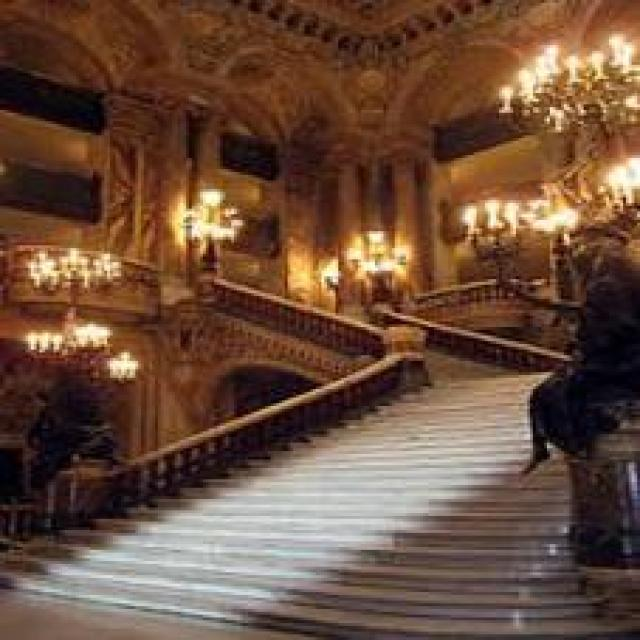stair: (141, 454, 558, 626)
